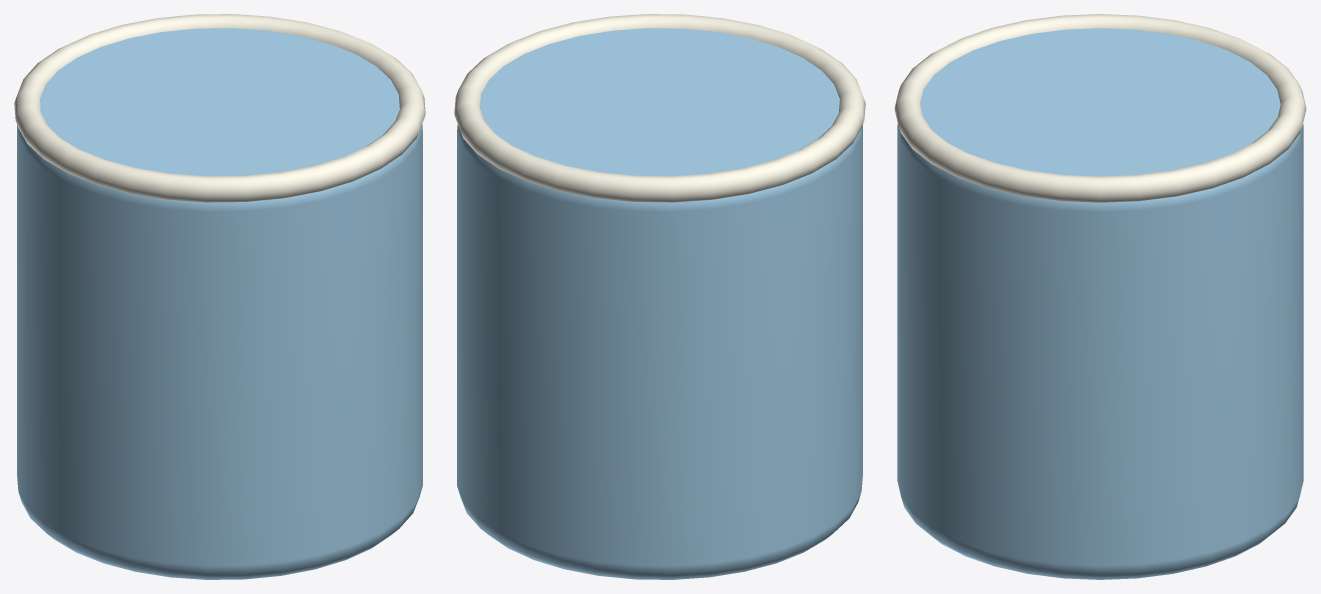
Rendered from officeTrashSquare.glb.
3 renders of one model, left to right at view 1: azimuth 30°, elevation 25°; view 2: azimuth 150°, elevation 25°; view 3: azimuth 270°, elevation 25°, orthographic.
Visible parts, largest first — view 1: Bin, Bin rim; view 2: Bin, Bin rim; view 3: Bin, Bin rim.
Part boxes in pixels (left/top/right/bottom): Bin: left=17, top=28, right=422, bottom=579; Bin rim: left=14, top=14, right=425, bottom=202; Bin: left=457, top=28, right=862, bottom=579; Bin rim: left=454, top=14, right=865, bottom=202; Bin: left=897, top=28, right=1303, bottom=579; Bin rim: left=894, top=14, right=1306, bottom=202.
Size of the model in its own units: 0.75 by 0.8138 by 0.75.
